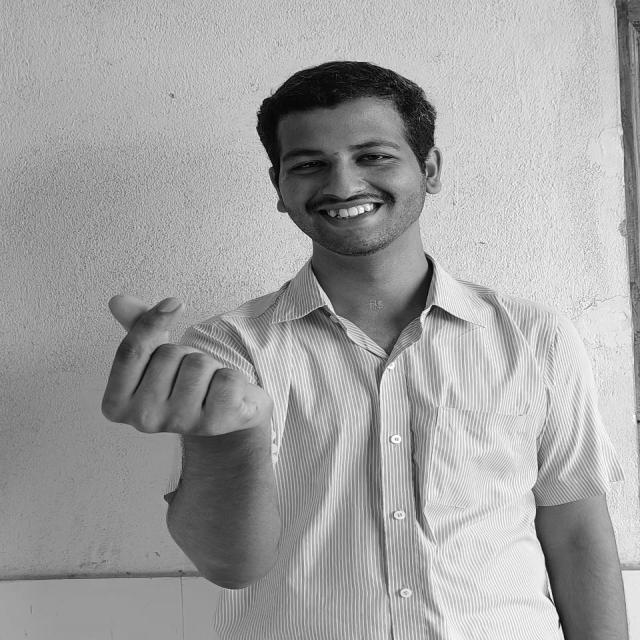Grattitude: (101, 295, 269, 436)
